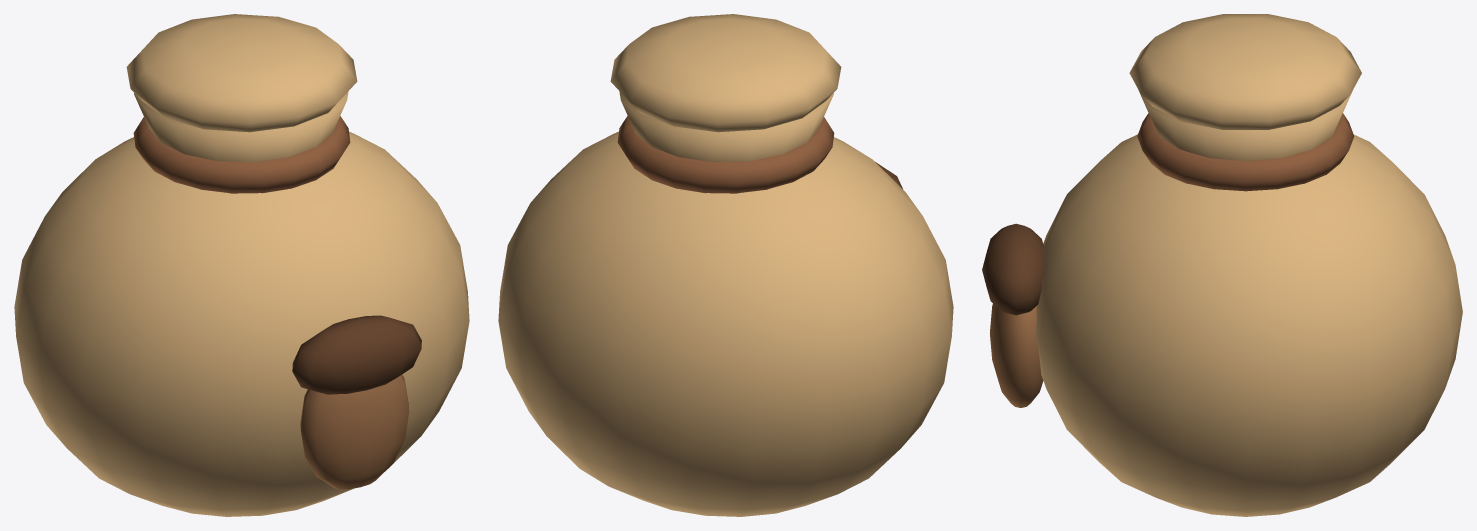
Rendered from mat-acorn-bag.glb.
The picture shows the model from 3 angles, left to right: view 1: azimuth 30°, elevation 25°; view 2: azimuth 150°, elevation 25°; view 3: azimuth 270°, elevation 25°; orthographic projection.
Parts seen in each view (by area): view 1: mat; view 2: mat; view 3: mat.
Part boxes in pixels (left/top/right/bottom): mat: left=14, top=14, right=469, bottom=516; mat: left=498, top=14, right=953, bottom=516; mat: left=982, top=14, right=1462, bottom=516.
Bounding box in the file's own units: 0.3 × 0.311 × 0.31.
